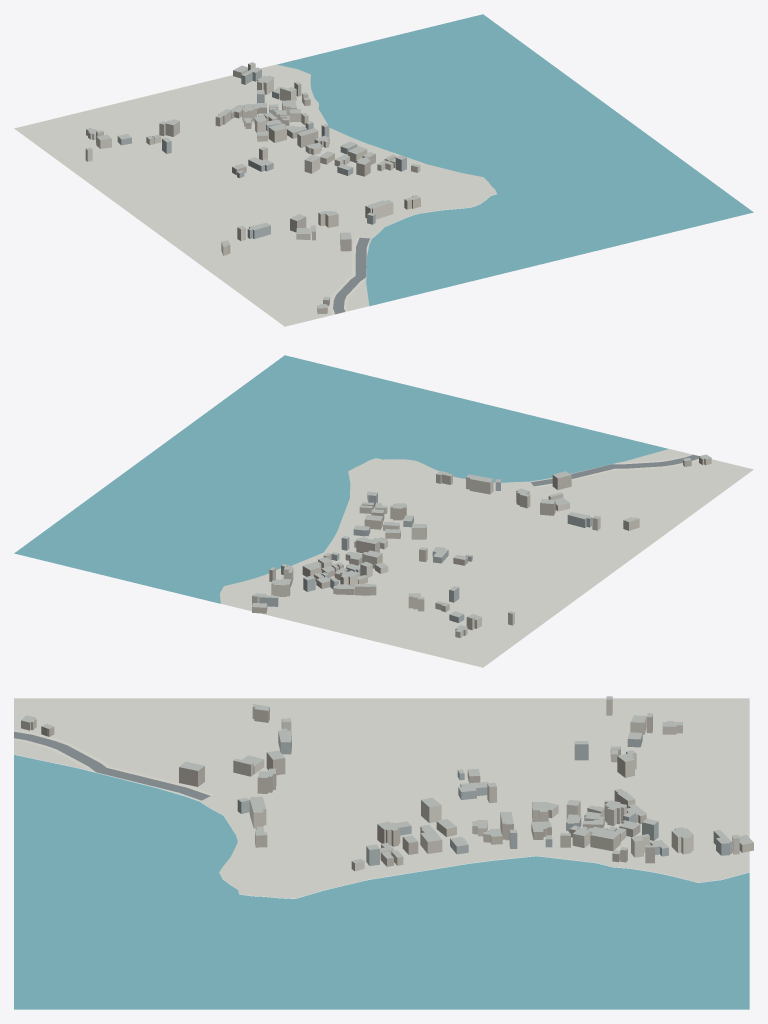
3 views of the same model, one above another, from view 1: azimuth 30°, elevation 25°; view 2: azimuth 150°, elevation 25°; view 3: azimuth 270°, elevation 25° (orthographic). The views are drawn at different scales.
Visible parts, largest first — view 1: city; view 2: city; view 3: city.
Part boxes in pixels (bbox=[...]): city: bbox=[14, 14, 753, 326]; city: bbox=[14, 355, 753, 667]; city: bbox=[14, 696, 753, 1009].
Bounding box in the file's own units: 500 × 12.18 × 503.
